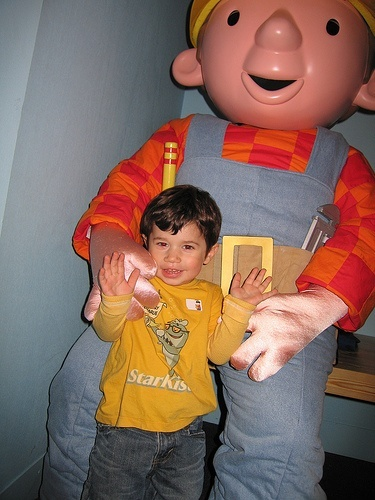head: (135, 178, 227, 292)
person: (70, 176, 255, 498)
